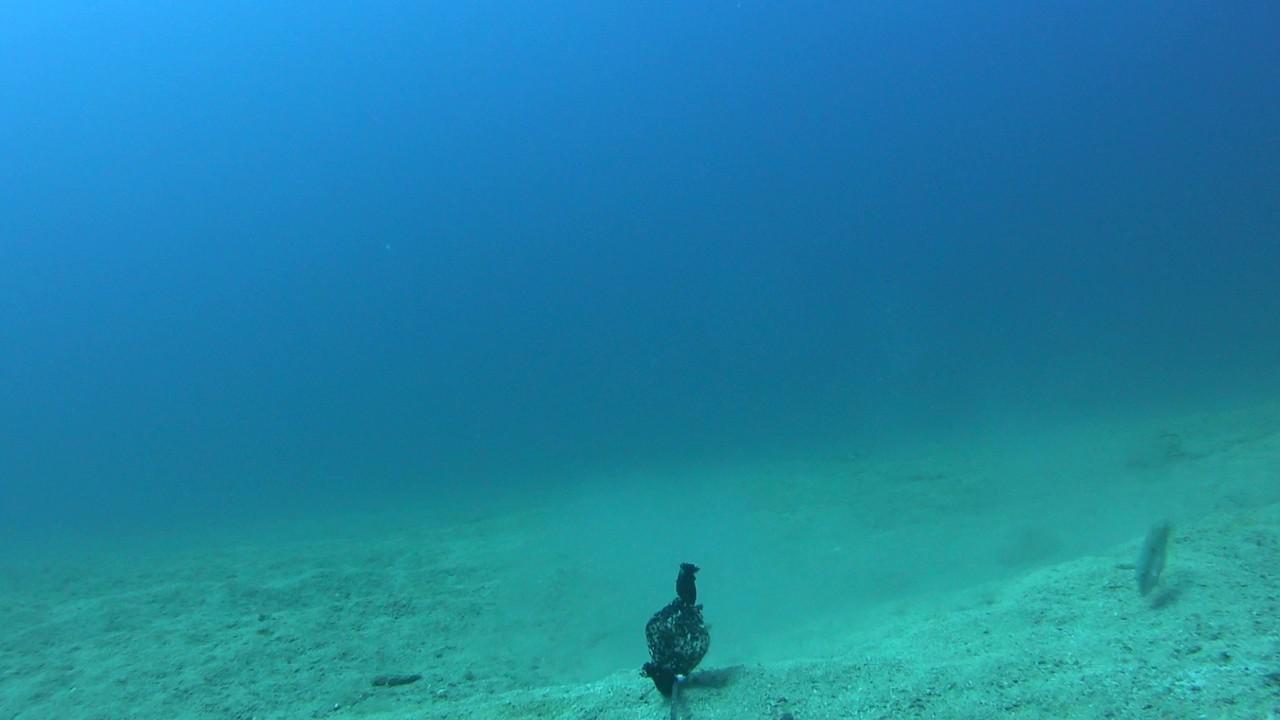myliobatis: (807, 436, 896, 472)
raor: (1134, 521, 1174, 598)
